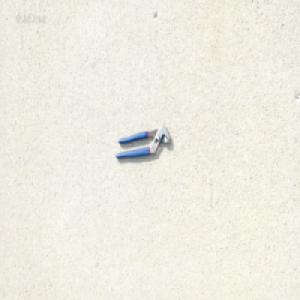Pliers: (113, 124, 171, 161)
